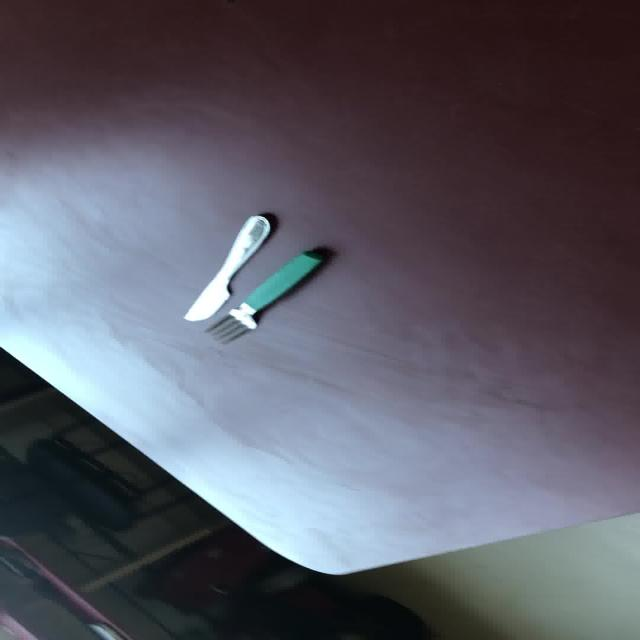fork: (202, 249, 323, 343)
knife fork: (202, 248, 323, 343), (181, 213, 271, 322)
